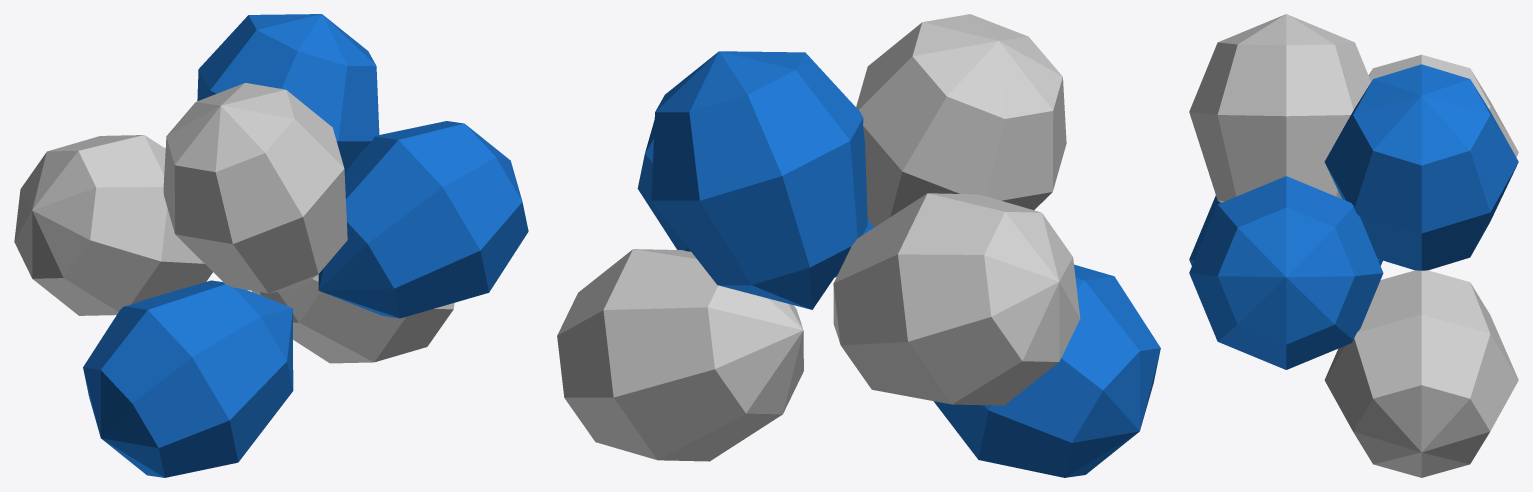
File: SM_balls_1.fbx
The picture shows the model from 3 angles, left to right: view 1: azimuth 30°, elevation 25°; view 2: azimuth 150°, elevation 25°; view 3: azimuth 270°, elevation 25°; orthographic projection. The views are drawn at different scales.
Visible parts, largest first — view 1: Sweep_2; view 2: Sweep_2; view 3: Sweep_2.
Boxes of the visible parts, x1=… form: Sweep_2: x1=14, y1=14, x2=528, y2=477; Sweep_2: x1=557, y1=14, x2=1160, y2=477; Sweep_2: x1=1189, y1=14, x2=1518, y2=477.
Size of the model in its own units: 75.98 by 62.29 by 53.67.
